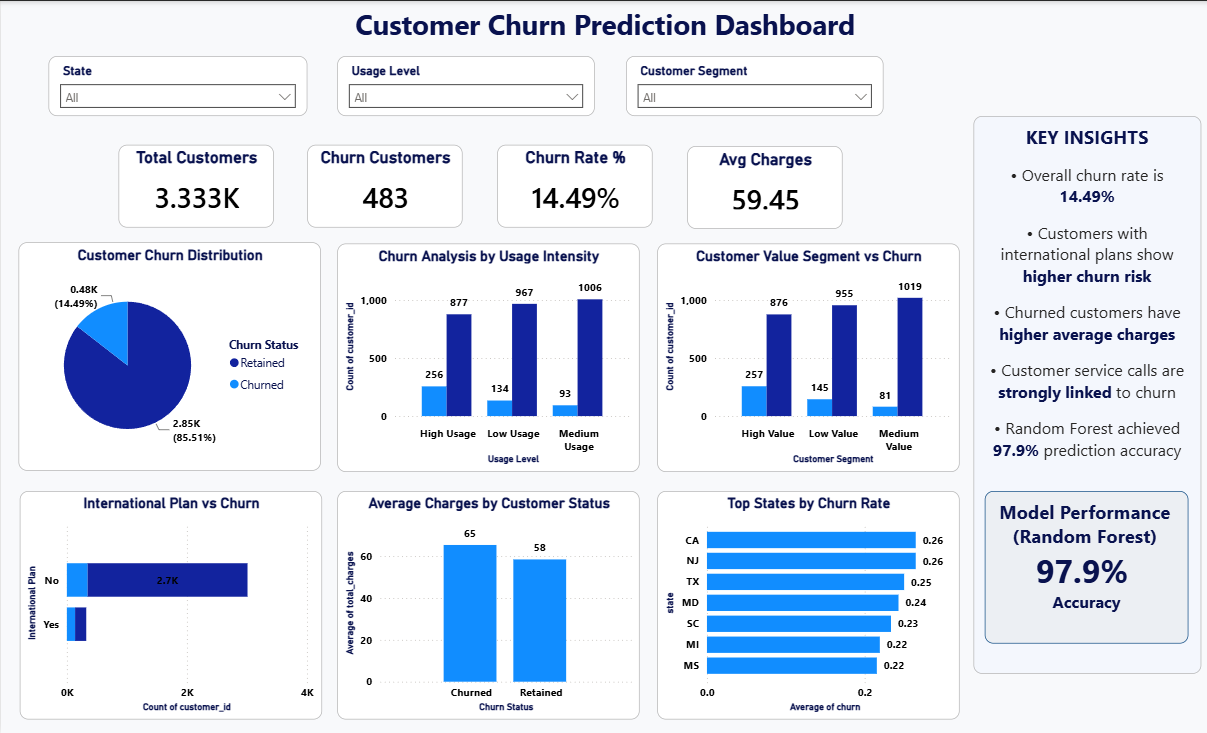

What the dashboard file says about the page in this screenshot:
{"tool":"powerbi","page":{"name":"Page 1","canvas":[1400,850],"ordinal":0},"visuals":[{"type":"cardVisual","title":"Total Customers","fields":{"Data":["CountNonNull(customer_churn_cleaned.customer_id)"]},"box":[136.2,166.6,180,96],"z":1000},{"type":"cardVisual","title":"Churn Customers","fields":{"Data":["customer_churn_cleaned.Churn Customers"]},"box":[354.9,166.6,180,96],"z":2000},{"type":"cardVisual","title":"Churn Rate %","fields":{"Data":["customer_churn_cleaned.Churn Rate %"]},"box":[575,167.2,180,96],"z":3000},{"type":"cardVisual","title":"Avg Charges","fields":{"Data":["customer_churn_cleaned.Avg Charges"]},"box":[795.2,168,180,96],"z":4000},{"type":"pieChart","title":"Customer Churn Distribution","fields":{"Category":["customer_churn_cleaned.Churn Status"],"Y":["CountNonNull(customer_churn_cleaned.customer_id)"]},"box":[20,280,350,265],"z":5000},{"type":"clusteredColumnChart","title":"Churn Analysis by Usage Intensity","fields":{"Category":["customer_churn_cleaned.Usage Level"],"Series":["customer_churn_cleaned.Churn Status"],"Y":["CountNonNull(customer_churn_cleaned.customer_id)"]},"box":[389.8,280.6,350,265],"z":6000},{"type":"clusteredColumnChart","title":"Customer Value Segment vs Churn","fields":{"Series":["customer_churn_cleaned.Churn Status"],"Y":["CountNonNull(customer_churn_cleaned.customer_id)"],"Category":["customer_churn_cleaned.Customer Segment"]},"box":[760.2,280.6,350,265],"z":7000},{"type":"barChart","title":"International Plan vs Churn","fields":{"Series":["customer_churn_cleaned.Churn Status"],"Y":["CountNonNull(customer_churn_cleaned.customer_id)"],"Category":["customer_churn_cleaned.International Plan"]},"box":[21.7,567.8,350,265],"z":8000},{"type":"clusteredColumnChart","title":"Average Charges by Customer Status","fields":{"Category":["customer_churn_cleaned.Churn Status"],"Y":["Avg(customer_churn_cleaned.total_charges)"]},"box":[389.7,567.8,350.5,265],"z":9000},{"type":"clusteredBarChart","title":"Top States by Churn Rate","fields":{"Category":["customer_churn_cleaned.state"],"Y":["Avg(customer_churn_cleaned.churn)"]},"box":[760.5,567.8,350,265.1],"z":10000},{"type":"textbox","box":[0,0,1400.1,59.4],"z":11000},{"type":"textbox","box":[1127,133.3,263.6,646],"z":12000},{"type":"slicer","fields":{"Values":["customer_churn_cleaned.state"]},"box":[55,63.7,299.8,69.5],"z":13000},{"type":"slicer","fields":{"Values":["customer_churn_cleaned.Usage Level"]},"box":[389.7,63.7,298.4,69.5],"z":14000},{"type":"slicer","fields":{"Values":["customer_churn_cleaned.Customer Segment"]},"box":[724.3,63.7,298.4,69.5],"z":15000},{"type":"textbox","box":[1140,567.8,236.1,176.7],"z":17000}]}

Visuals, with their boxes in screenshot pixels (x1, y1, x2, y2), scaled from the page's 1400x850 canvas onto the 1207x733 screenshot:
"Total Customers" cardVisual: [left=117, top=144, right=273, bottom=226]
"Churn Customers" cardVisual: [left=306, top=144, right=461, bottom=226]
"Churn Rate %" cardVisual: [left=496, top=144, right=651, bottom=227]
"Avg Charges" cardVisual: [left=686, top=145, right=841, bottom=228]
"Customer Churn Distribution" pieChart: [left=17, top=241, right=319, bottom=470]
"Churn Analysis by Usage Intensity" clusteredColumnChart: [left=336, top=242, right=638, bottom=470]
"Customer Value Segment vs Churn" clusteredColumnChart: [left=655, top=242, right=957, bottom=470]
"International Plan vs Churn" barChart: [left=19, top=490, right=320, bottom=718]
"Average Charges by Customer Status" clusteredColumnChart: [left=336, top=490, right=638, bottom=718]
"Top States by Churn Rate" clusteredBarChart: [left=656, top=490, right=957, bottom=718]
textbox: [left=0, top=0, right=1206, bottom=51]
textbox: [left=972, top=115, right=1199, bottom=672]
slicer - customer_churn_cleaned.state: [left=47, top=55, right=306, bottom=115]
slicer - customer_churn_cleaned.Usage Level: [left=336, top=55, right=593, bottom=115]
slicer - customer_churn_cleaned.Customer Segment: [left=624, top=55, right=882, bottom=115]
textbox: [left=983, top=490, right=1186, bottom=642]
